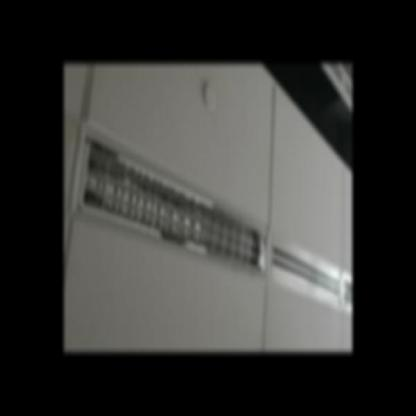light_off: (77, 109, 268, 289), (330, 258, 352, 328)
